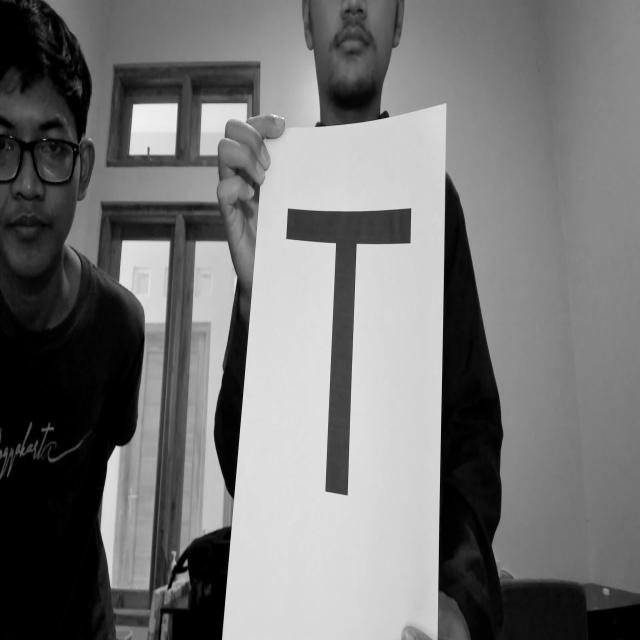t: (280, 188, 424, 519)
